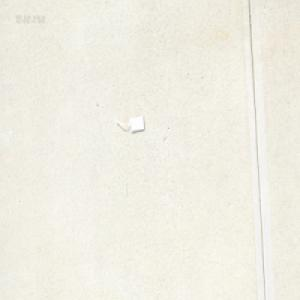LuggageTag: (114, 115, 144, 132)
